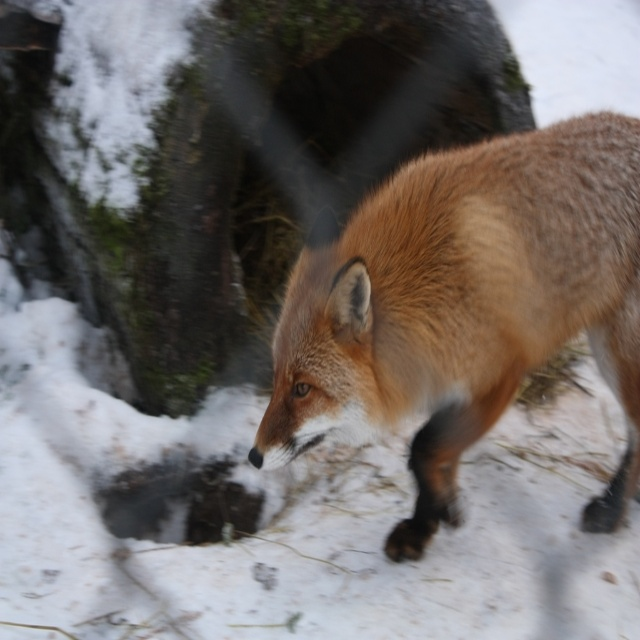Fox: (248, 110, 639, 564)
